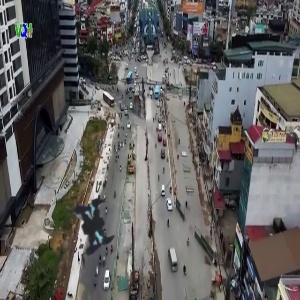drone: (22, 161, 158, 297)
